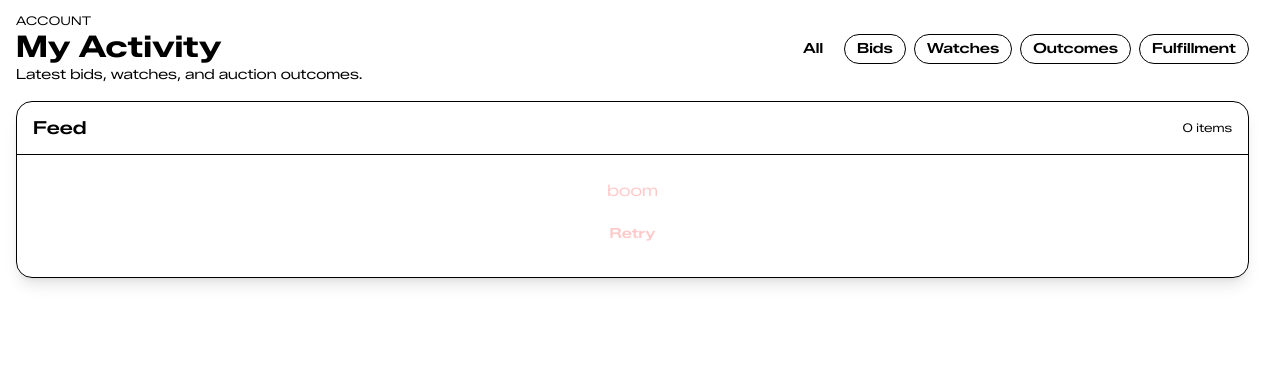
Test case: ActivityPage › shows error state and can retry
Expected: the text "boom Retry" is shown, left=597, top=181, right=668, bottom=253
Click the button "Retry". click: (632, 234)
box: left=597, top=215, right=668, bottom=253
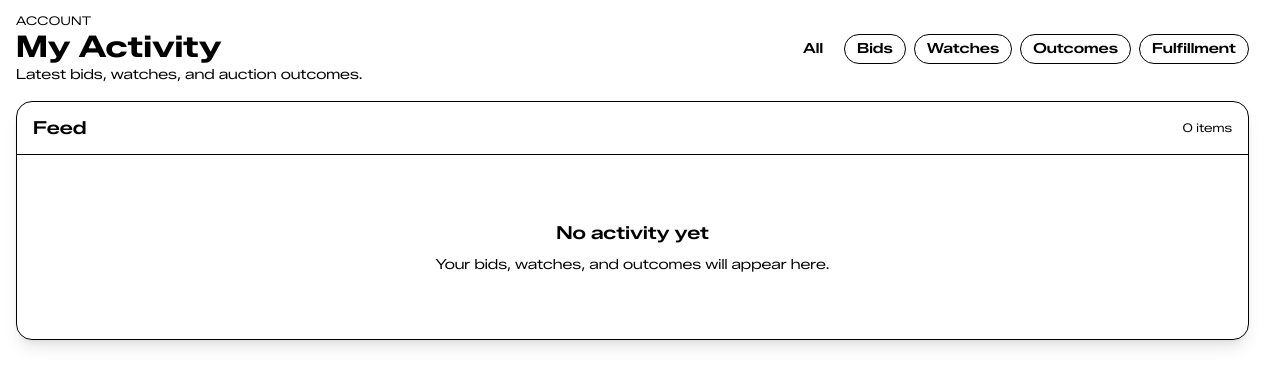
Expected: the text "No activity yet" is shown, left=556, top=222, right=709, bottom=244
